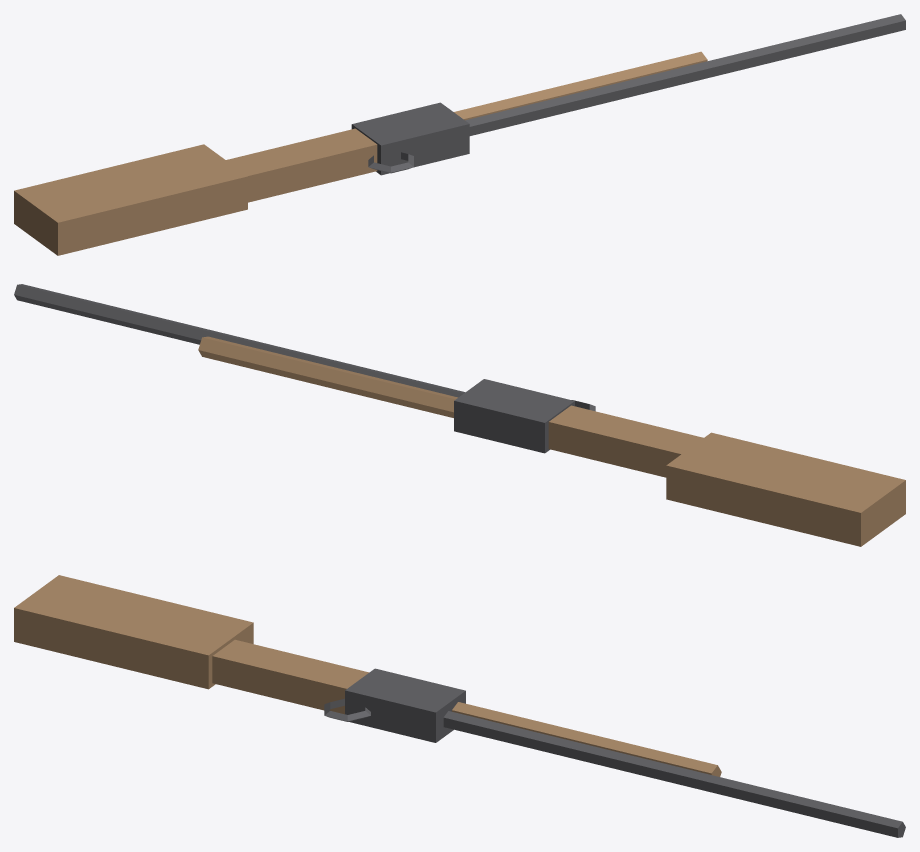
The model's file is SM_Rifle.glb.
The picture shows the model from 3 angles, top to bottom: view 1: azimuth 30°, elevation 25°; view 2: azimuth 150°, elevation 25°; view 3: azimuth 330°, elevation 25°; orthographic projection. The views are drawn at different scales.
Parts seen in each view (by area): view 1: SM_Rifle; view 2: SM_Rifle; view 3: SM_Rifle.
Boxes of the visible parts, x1,y1,x2,y2 form: SM_Rifle: [14, 14, 905, 255]; SM_Rifle: [14, 284, 905, 546]; SM_Rifle: [14, 575, 905, 837].
Bounding box in the file's own units: 1.35 × 0.05 × 0.1612.
